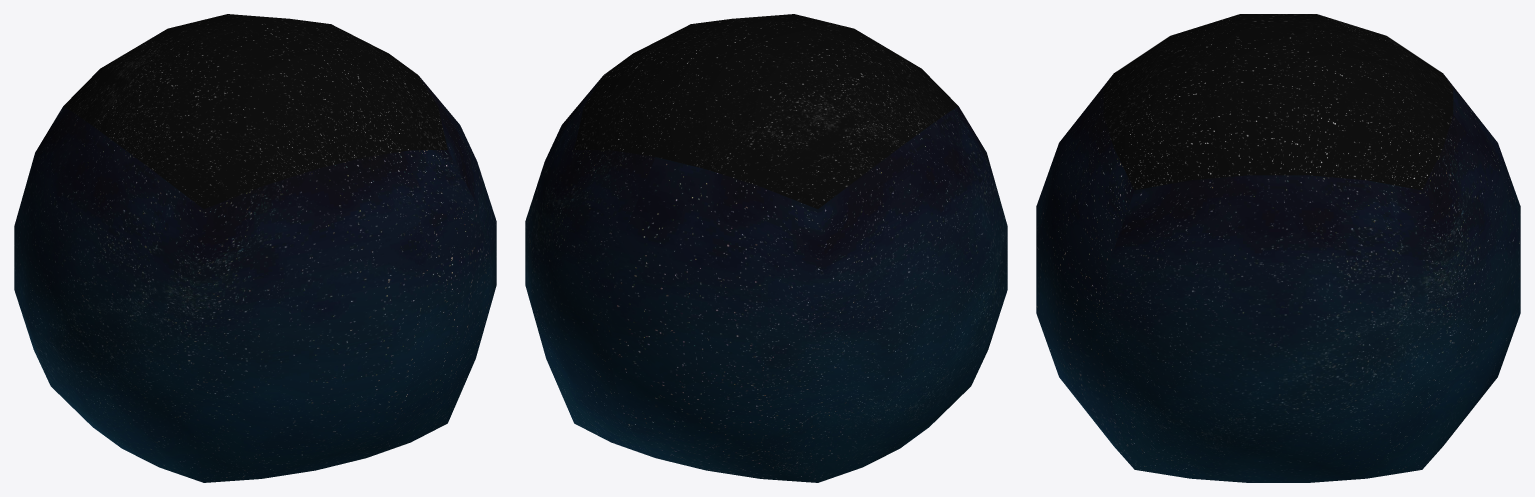
3 views of the same model, side by side, from view 1: azimuth 30°, elevation 25°; view 2: azimuth 150°, elevation 25°; view 3: azimuth 270°, elevation 25° (orthographic). The views are drawn at different scales.
Visible parts, largest first — view 1: skyDome; view 2: skyDome; view 3: skyDome.
Part boxes in pixels (x1,y1,x2,y2): skyDome: (14, 14, 496, 482); skyDome: (525, 14, 1007, 482); skyDome: (1036, 14, 1520, 482).
Size of the model in its own units: 315 by 315 by 264.
